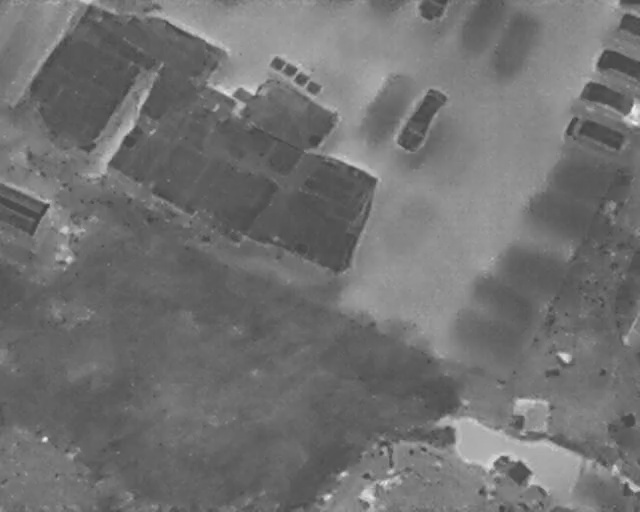Car: (393, 84, 450, 155), (563, 112, 633, 159), (580, 80, 640, 125), (597, 47, 640, 85), (417, 0, 451, 24), (618, 12, 640, 41)
